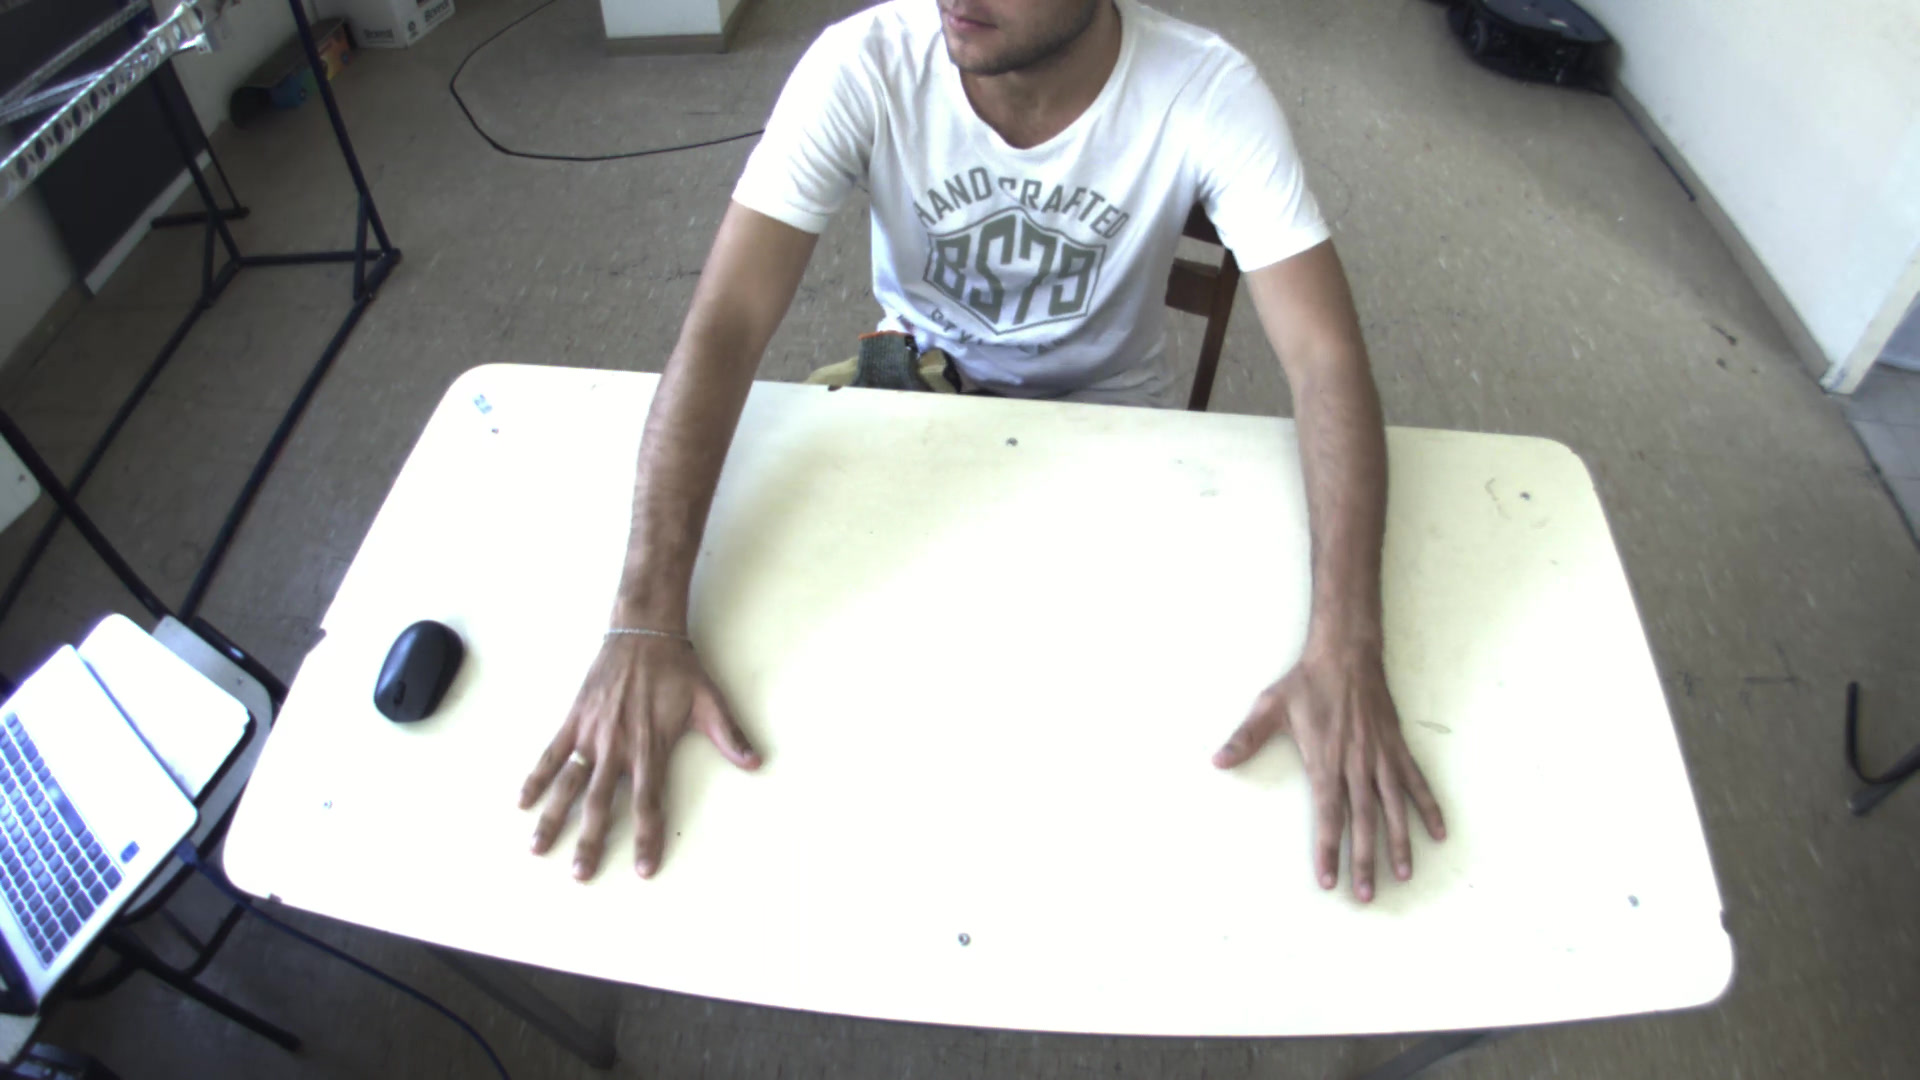hand: (498, 612, 769, 890), (1212, 638, 1472, 905)
